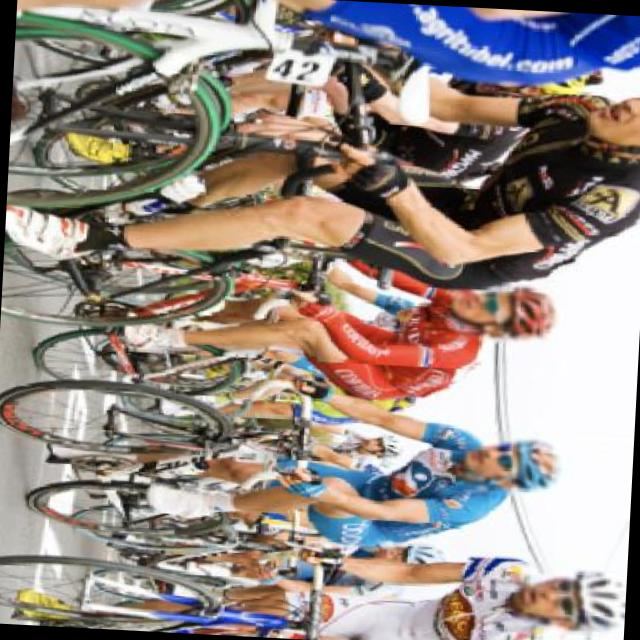With Helmet: (508, 561, 627, 640), (444, 278, 566, 348), (458, 429, 570, 502)
